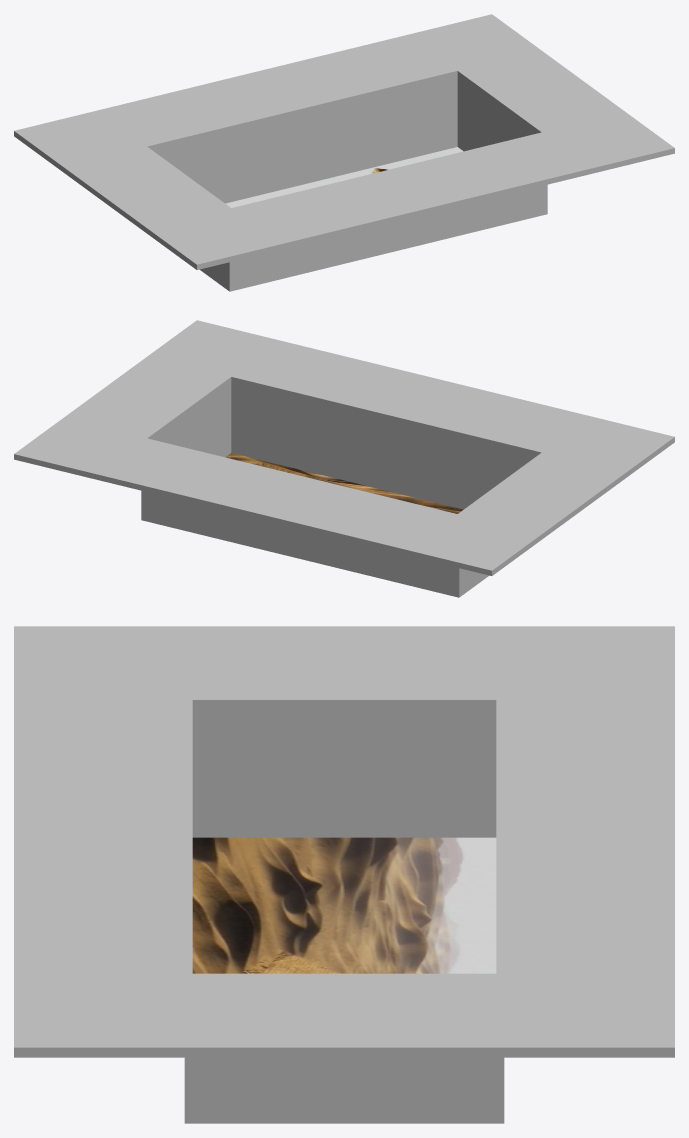
File: whirlpool_bins_abydos_1.dae
3 renders of one model, top to bottom at view 1: azimuth 30°, elevation 25°; view 2: azimuth 150°, elevation 25°; view 3: azimuth 270°, elevation 25°, orthographic. The views are drawn at different scales.
Visible parts, largest first — view 1: Bin Abydos 1; view 2: Bin Abydos 1; view 3: Bin Abydos 1.
Part boxes in pixels (<box>): Bin Abydos 1: <box>14,14,674,291</box>; Bin Abydos 1: <box>14,320,674,597</box>; Bin Abydos 1: <box>14,626,674,1123</box>.
Bounding box in the file's own units: 0.9146 × 0.6063 × 0.1484.
Materials: 2 (1 with a texture image).
